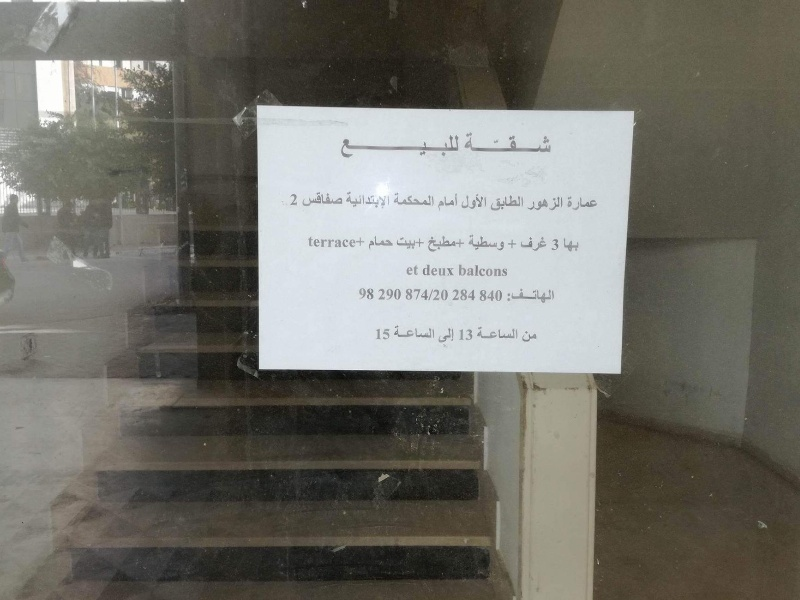text: (353, 134, 368, 158), (369, 134, 384, 158), (385, 134, 400, 158), (401, 134, 416, 158), (417, 134, 432, 158), (433, 134, 448, 158), (465, 133, 480, 154), (481, 133, 496, 154), (497, 133, 512, 154), (513, 133, 528, 154), (529, 133, 544, 154), (449, 235, 465, 253), (353, 191, 368, 209), (369, 191, 384, 209), (433, 235, 448, 253), (341, 134, 352, 158), (529, 236, 544, 253), (481, 235, 496, 252), (449, 134, 459, 158), (497, 195, 512, 211), (465, 194, 480, 210), (305, 192, 320, 208), (321, 192, 336, 208), (369, 236, 384, 251), (577, 196, 592, 211), (529, 196, 544, 211), (545, 196, 560, 211), (513, 289, 528, 304), (529, 289, 544, 304), (401, 193, 416, 207), (417, 193, 432, 207), (401, 236, 416, 250), (481, 326, 496, 340), (497, 326, 512, 340), (401, 325, 416, 339), (417, 325, 432, 339), (465, 263, 480, 277), (481, 263, 496, 277), (563, 237, 576, 253), (468, 235, 480, 252), (321, 236, 336, 249), (337, 236, 352, 249), (433, 264, 448, 277), (385, 289, 401, 301), (433, 289, 449, 301), (438, 193, 448, 212), (417, 289, 432, 301), (481, 290, 496, 302), (449, 193, 458, 212), (290, 194, 304, 206), (545, 133, 553, 154), (545, 289, 556, 304), (513, 195, 523, 211), (438, 327, 448, 343), (308, 236, 320, 249), (353, 236, 365, 249), (452, 289, 464, 302), (497, 263, 508, 277), (465, 289, 476, 302), (520, 236, 528, 253), (497, 235, 505, 252), (385, 236, 394, 251), (405, 289, 416, 301), (550, 239, 560, 252), (422, 264, 432, 277), (568, 196, 576, 211), (406, 265, 416, 277), (359, 288, 368, 301), (346, 191, 352, 209), (376, 328, 384, 341), (417, 236, 424, 250), (393, 325, 400, 339), (490, 195, 496, 211), (481, 194, 487, 210), (337, 192, 343, 208), (465, 329, 473, 341), (529, 331, 537, 342), (394, 193, 400, 207), (513, 326, 519, 340), (449, 327, 454, 343), (385, 328, 391, 341), (593, 196, 598, 211), (507, 289, 512, 304), (385, 191, 389, 209), (428, 235, 432, 253), (378, 289, 384, 301), (497, 290, 503, 302), (459, 263, 464, 277), (522, 331, 528, 342), (449, 264, 454, 277), (369, 288, 374, 301), (459, 329, 464, 341), (476, 326, 480, 340), (461, 194, 464, 210), (397, 236, 400, 250), (462, 133, 464, 154), (508, 239, 512, 249), (513, 239, 517, 249), (545, 236, 547, 253), (577, 237, 579, 253), (561, 196, 563, 211), (433, 325, 435, 339), (417, 265, 419, 277), (303, 192, 304, 208), (527, 196, 528, 211), (433, 193, 434, 207), (479, 290, 480, 302)
